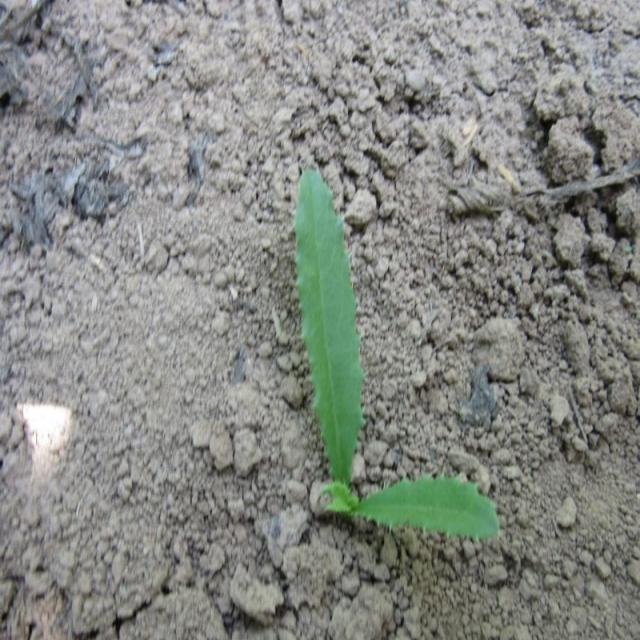field_thistle: (262, 170, 535, 556)
